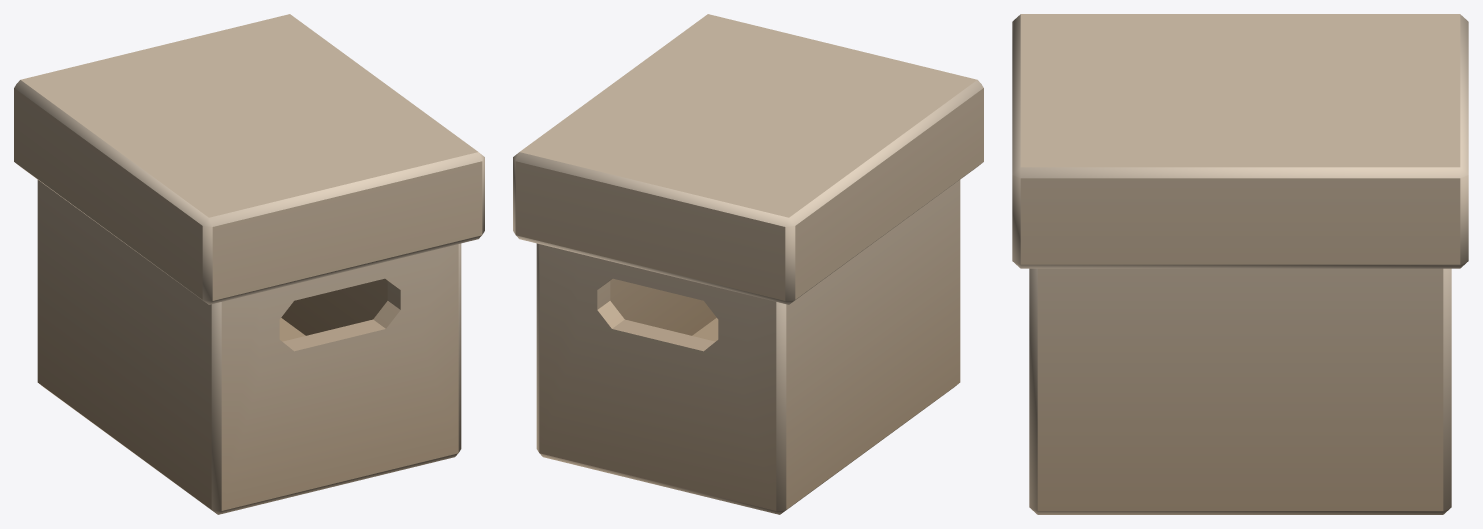
File: comicbox_open.glb
The picture shows the model from 3 angles, left to right: view 1: azimuth 30°, elevation 25°; view 2: azimuth 150°, elevation 25°; view 3: azimuth 270°, elevation 25°; orthographic projection. The views are drawn at different scales.
Parts seen in each view (by area): view 1: comicbox_lid, comicbox_open; view 2: comicbox_lid, comicbox_open; view 3: comicbox_lid, comicbox_open.
Boxes of the visible parts, <box> form: comicbox_lid: <box>14,14,484,304</box>; comicbox_open: <box>37,180,461,514</box>; comicbox_lid: <box>513,14,983,304</box>; comicbox_open: <box>536,180,960,514</box>; comicbox_lid: <box>1012,14,1468,268</box>; comicbox_open: <box>1029,268,1451,514</box>.
Size of the model in its own units: 0.7188 by 0.7461 by 0.8641.
1 material, 1 textured.
